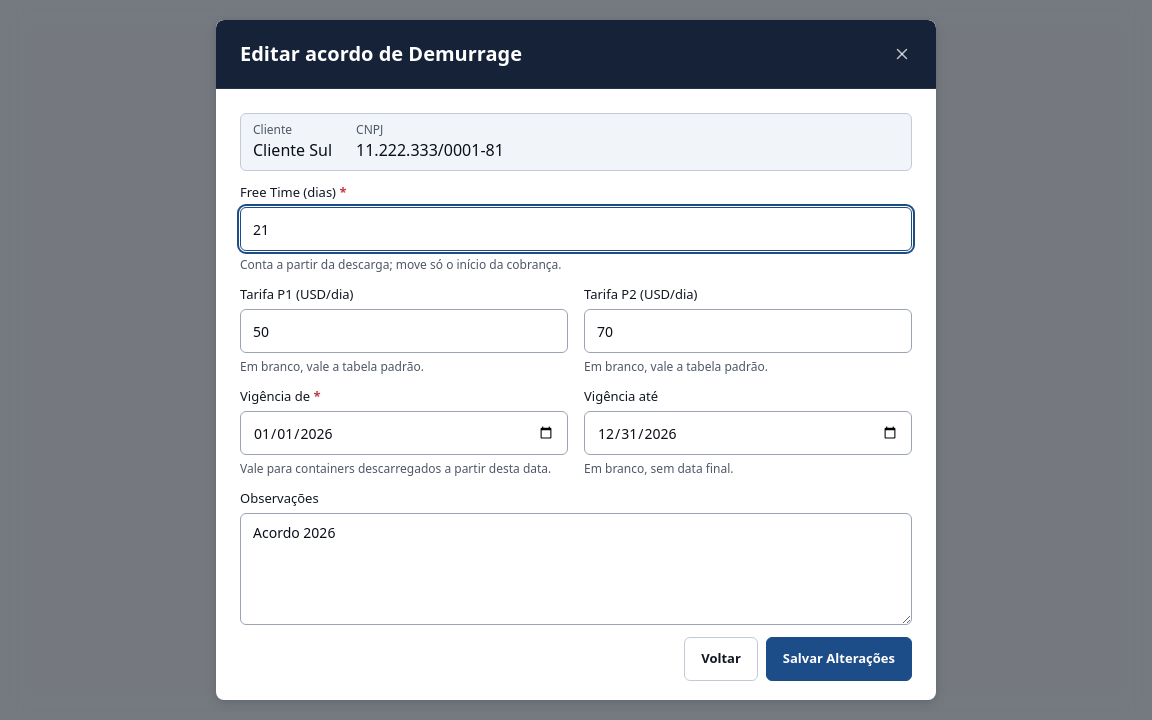
Test: Acordos de Demurrage — lista e formulário › leva o erro para junto do campo, sem confirmar
Clear the field labelled "Free Time (dias) *" at (576, 229), box top-left (240, 207), bottom-right (912, 251)
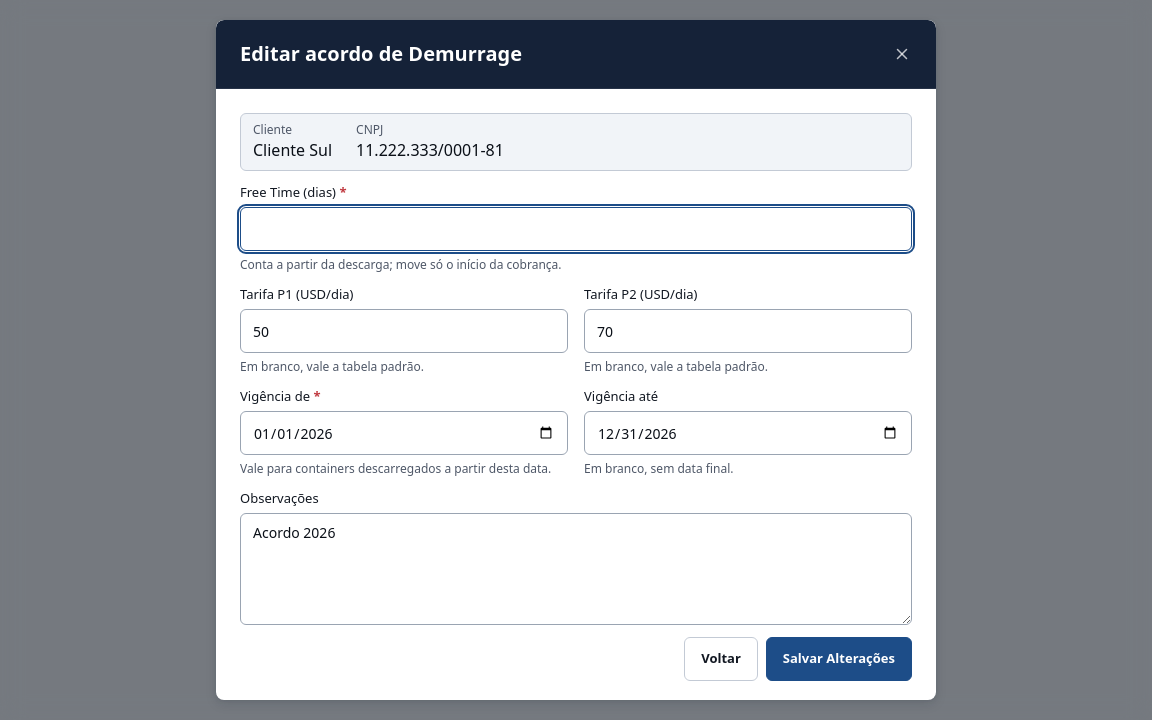
Click the button "Salvar Alterações" at (839, 659), box top-left (766, 637), bottom-right (912, 681)
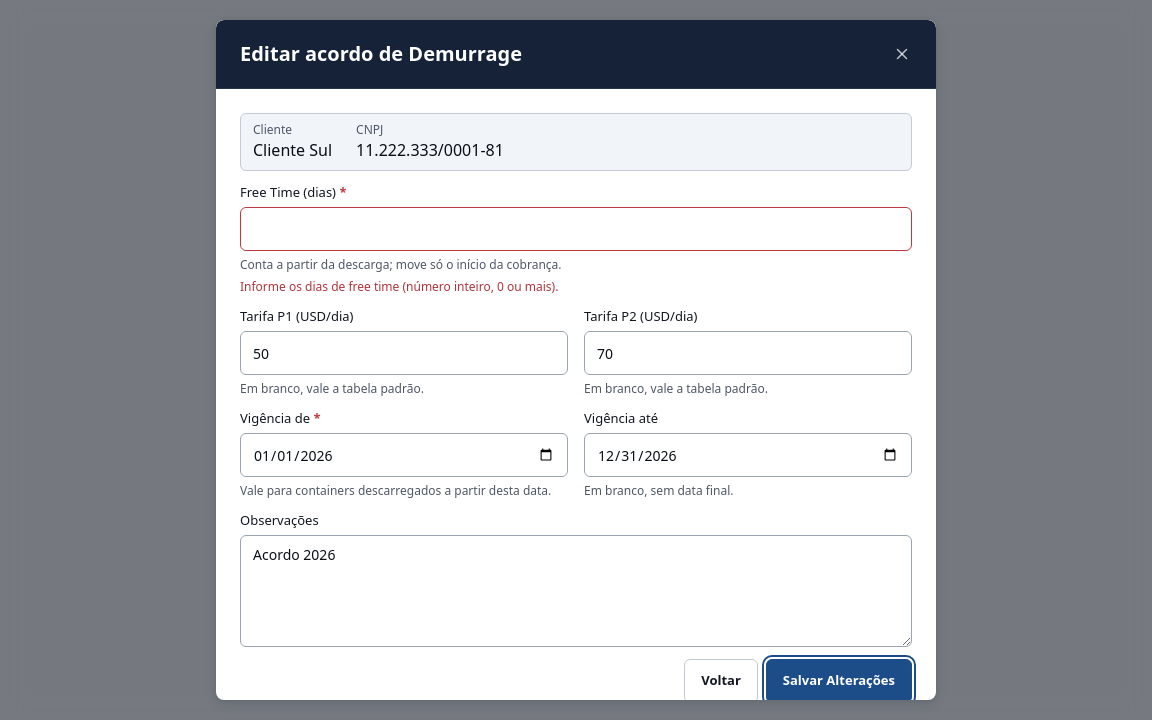
Now the message shows "Informe os dias de free time", box top-left (240, 278), bottom-right (558, 295)
